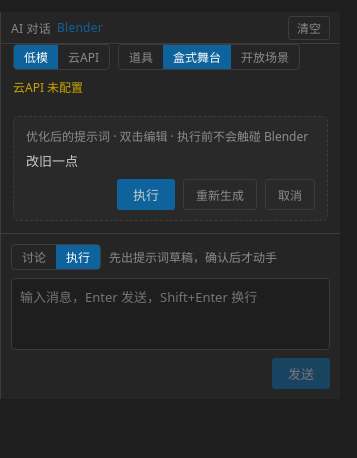
Test: ChatPanel › keeps the draft card with an error when the target has no blend source
Click the button "执行" below "改旧一点".
click(146, 195)  # box top-left (117, 179), bottom-right (175, 210)
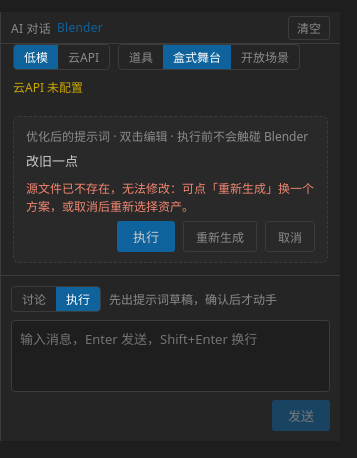
Expected: the element with class "draft-card" is shown, top-left (13, 116), bottom-right (328, 263)
Result: the text with class "draft-error" shows "源文件" at top-left (26, 179), bottom-right (315, 215)
